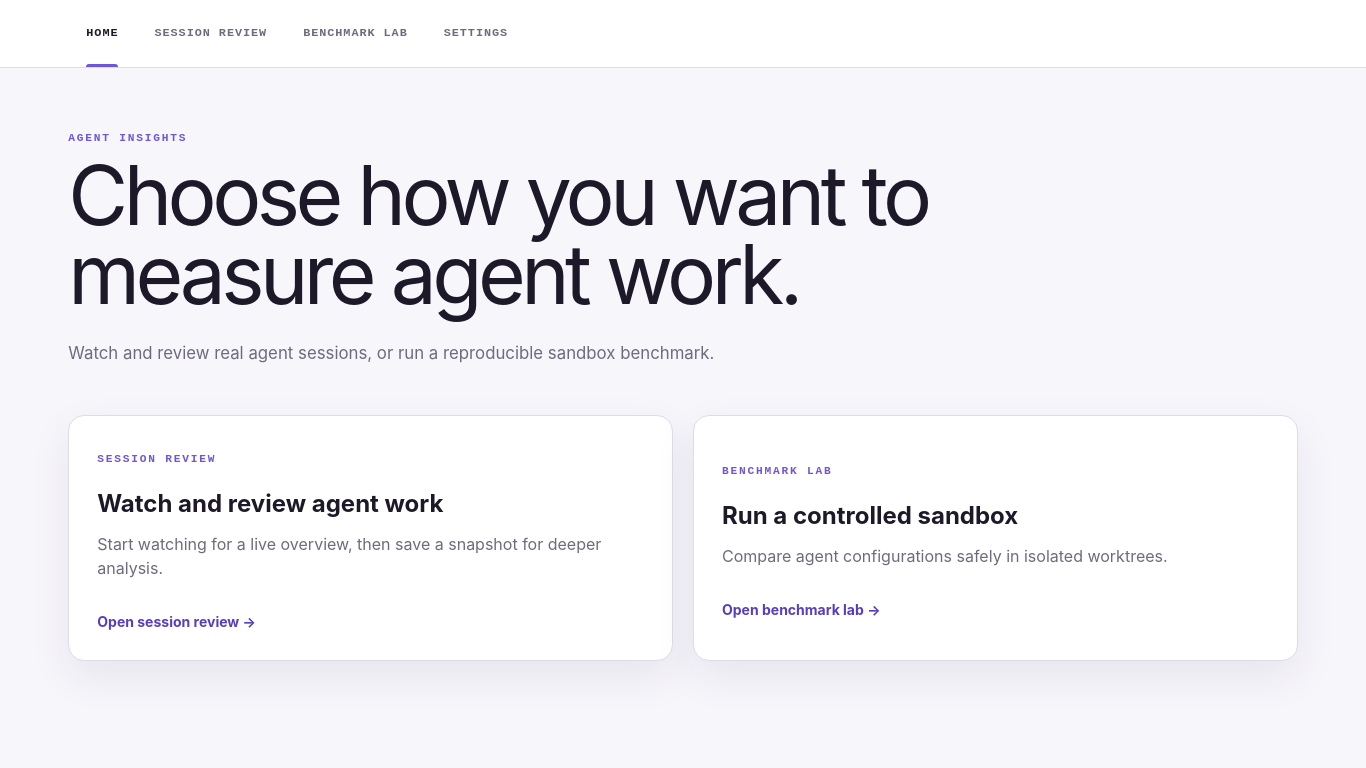
Test case: keeps start and retry disabled when any historical record is still running
Click the button "Benchmark Lab" at coordinates (355, 34), box [285,0,426,67]
(page scrolled)
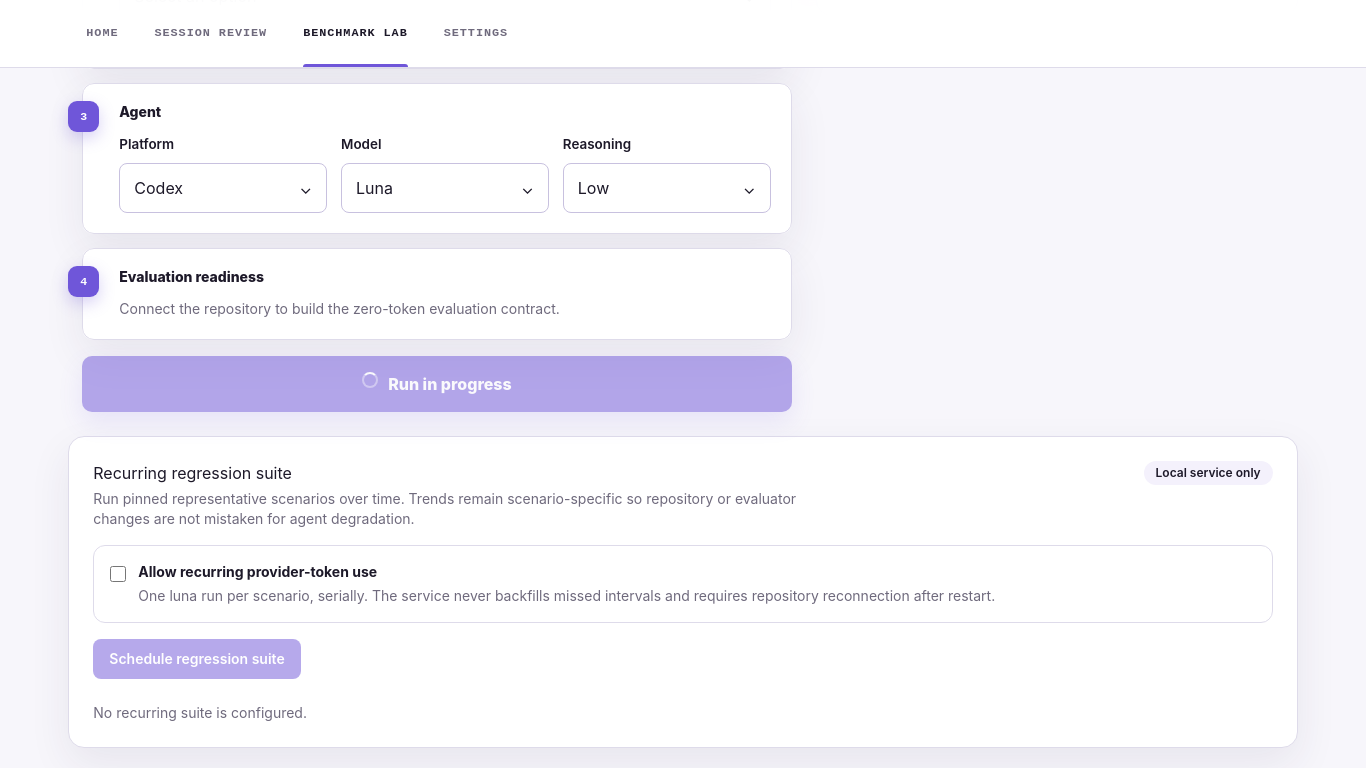
Expected: the button "Run in progress" is disabled, [82,356,792,412]
